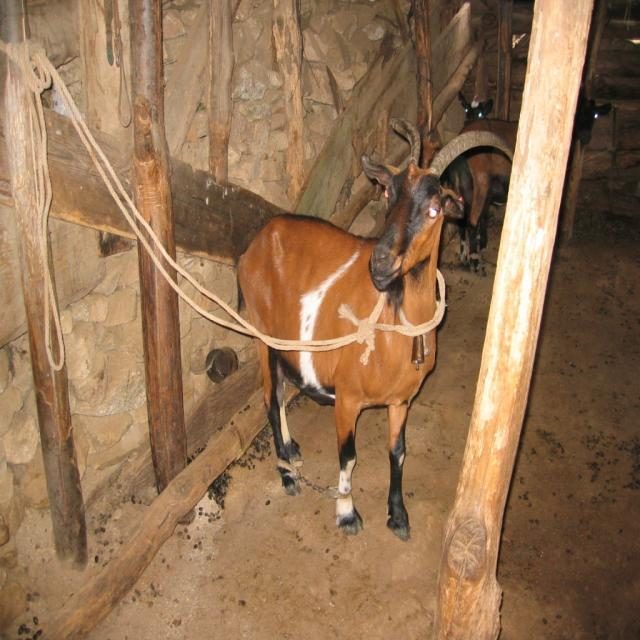Goat: (236, 112, 517, 542), (441, 82, 611, 275)
